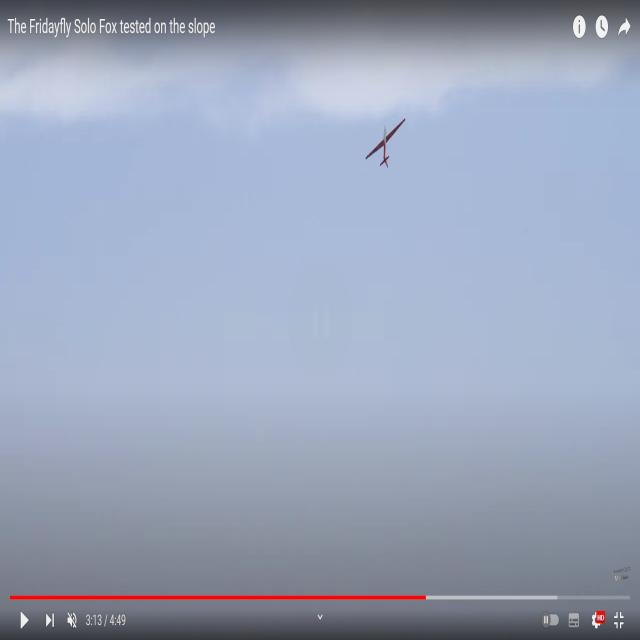iha: (365, 118, 406, 167)
